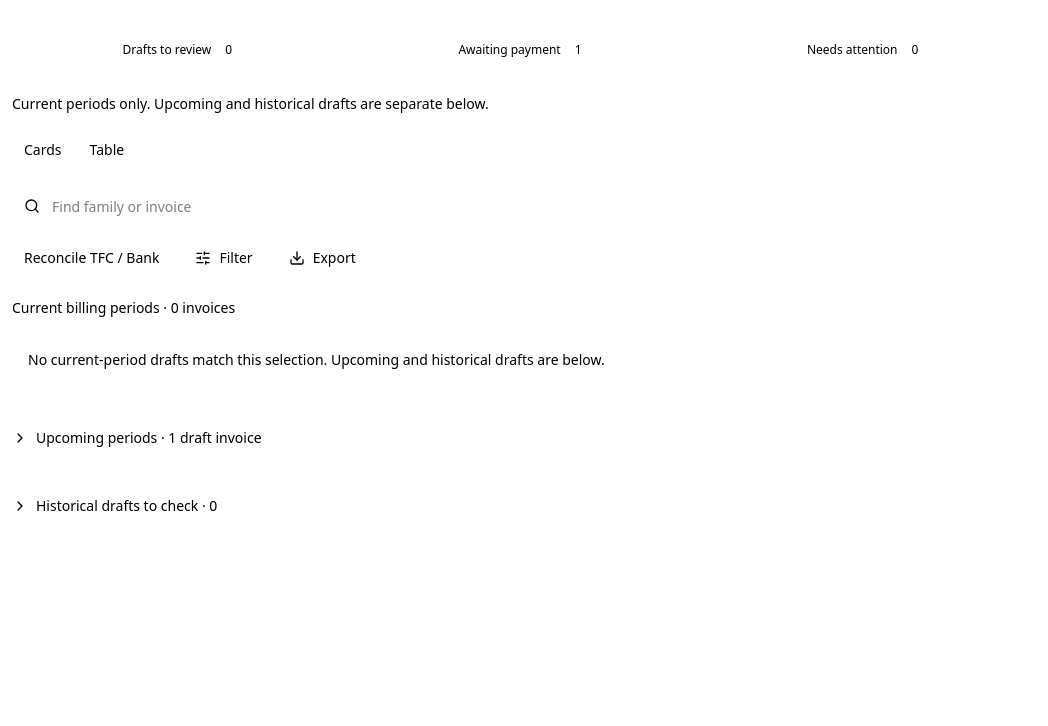
Test: daily finance workflow › keeps upcoming drafts distinct and reveals prior invoice context before the issue route
What coordinates should you click on to do the following:
click the heading "Upcoming periods · 1 draft invoice"
I would click on:
 (137, 438)
Its box is x1=12 y1=428 x2=262 y2=447.
(page scrolled)
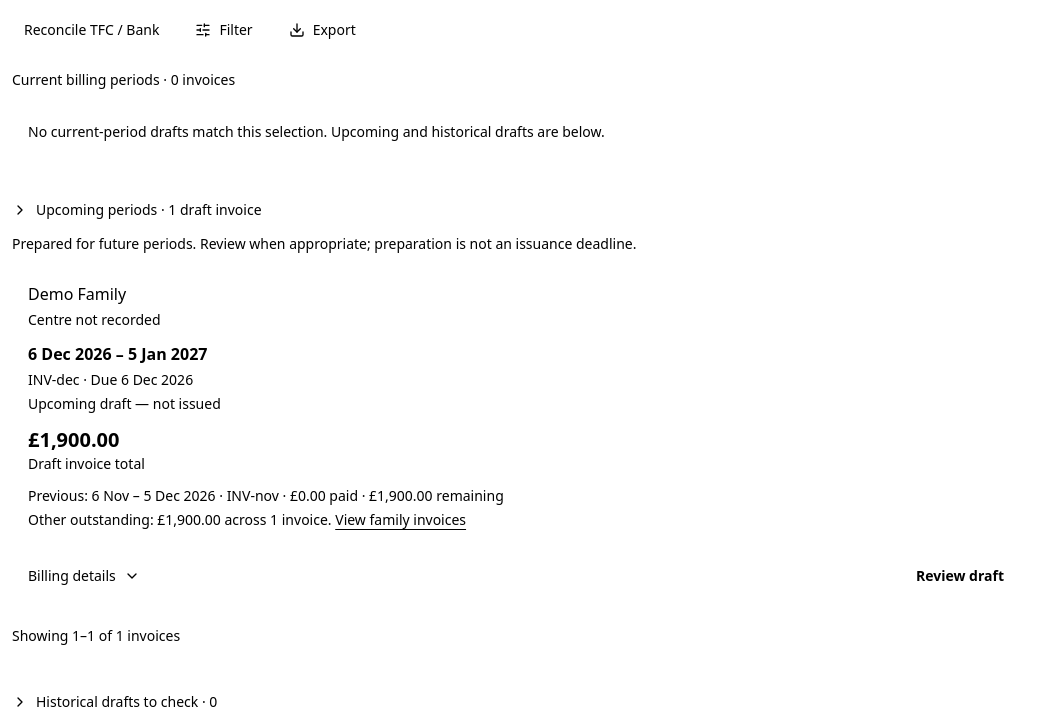
What coordinates should you click on to do the following:
click the button with aria-label "Review invoice INV-dec"
I would click on:
 (960, 576)
Its box is x1=900 y1=554 x2=1020 y2=598.
(page scrolled)
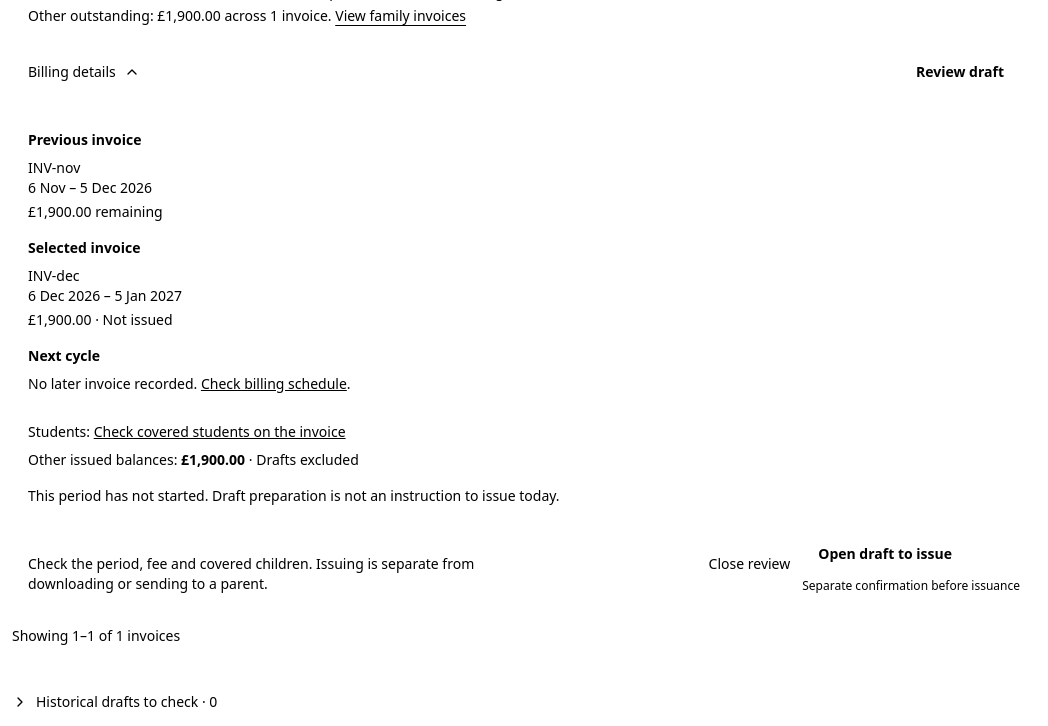
Result: the heading "Previous invoice" is shown at x1=28 y1=130 x2=141 y2=149
